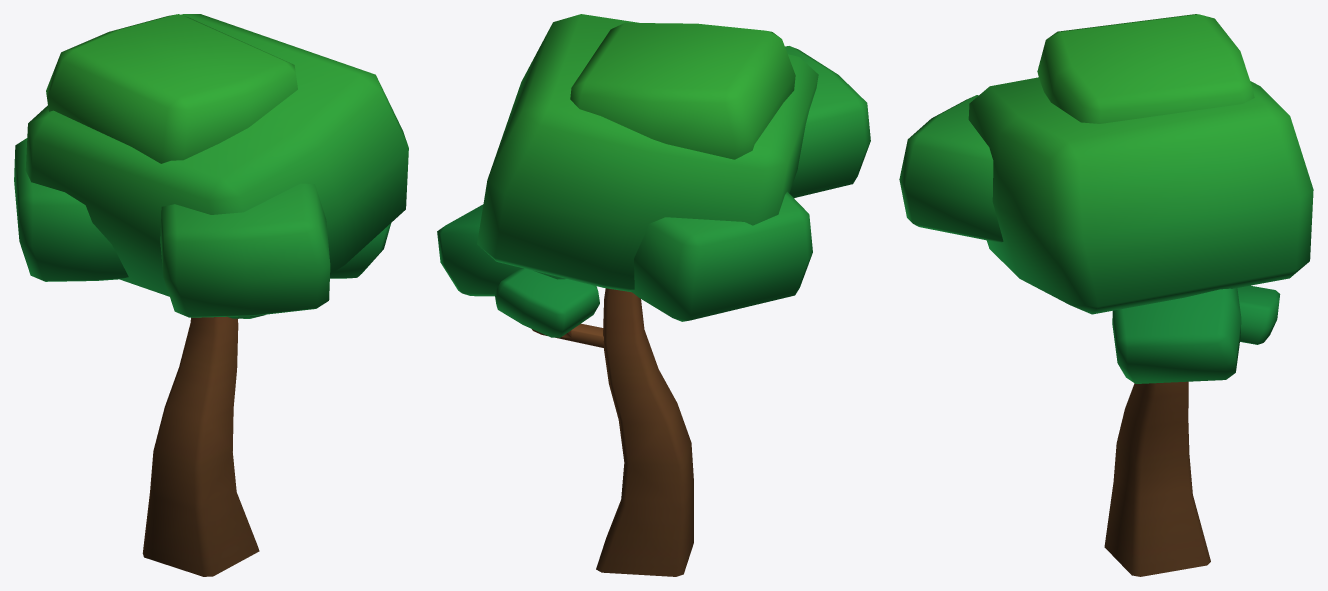
Rendered from Tree_D_6_.glb.
3 views of the same model, side by side, from view 1: azimuth 30°, elevation 25°; view 2: azimuth 150°, elevation 25°; view 3: azimuth 270°, elevation 25° (orthographic). The views are drawn at different scales.
Visible parts, largest first — view 1: Tree_D_6; view 2: Tree_D_6; view 3: Tree_D_6.
Boxes of the visible parts, <box> form: Tree_D_6: <box>14,14,408,576</box>; Tree_D_6: <box>437,14,870,576</box>; Tree_D_6: <box>899,14,1313,576</box>.
Size of the model in its own units: 2.86 by 3.99 by 3.05.
Materials: 1 (1 with a texture image).
